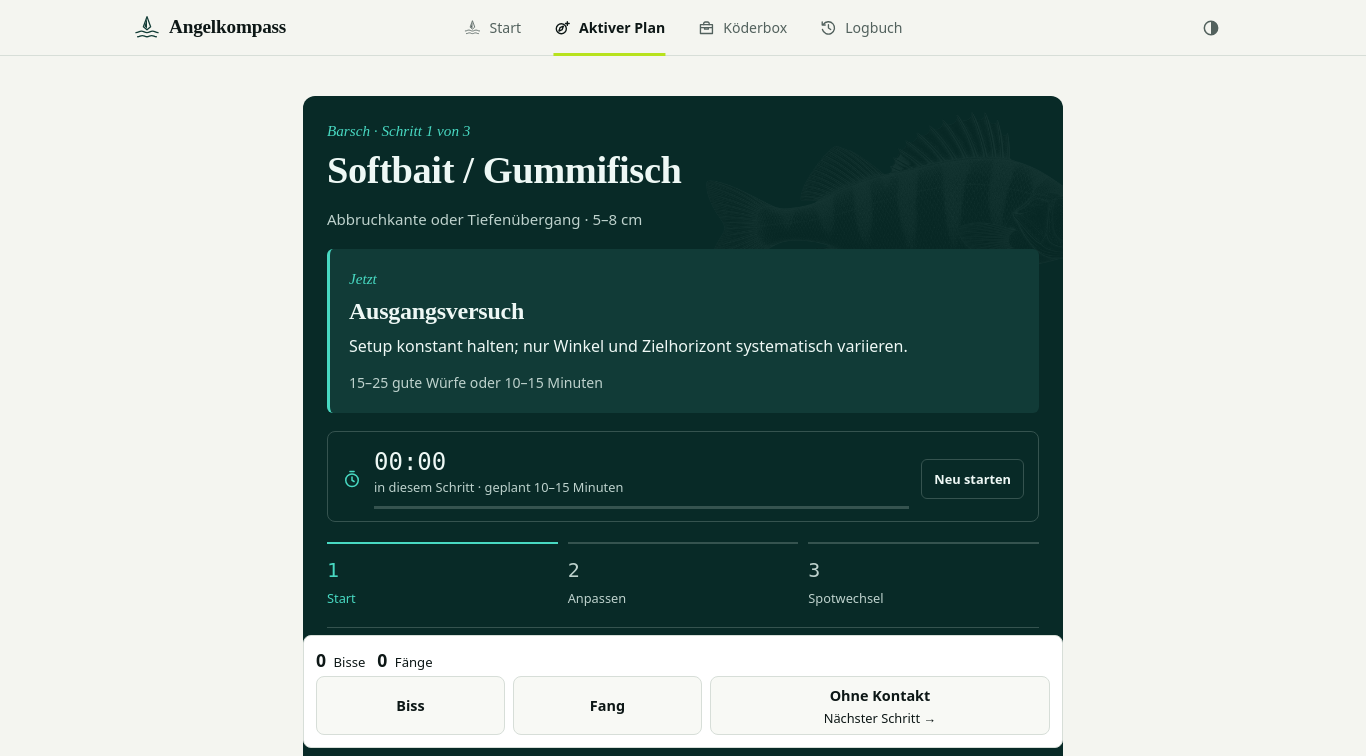
Scenario: Aktueller Arbeitsauftrag und gespeicherter Startplan › zeigt Montage, Größe, Gewicht und Führung aus dem aktuellen Wechselschritt
Click the button with aria-label "Ohne Kontakt → nächster Schritt": coordinates (880, 705) [710,676,1050,735]
(page scrolled)
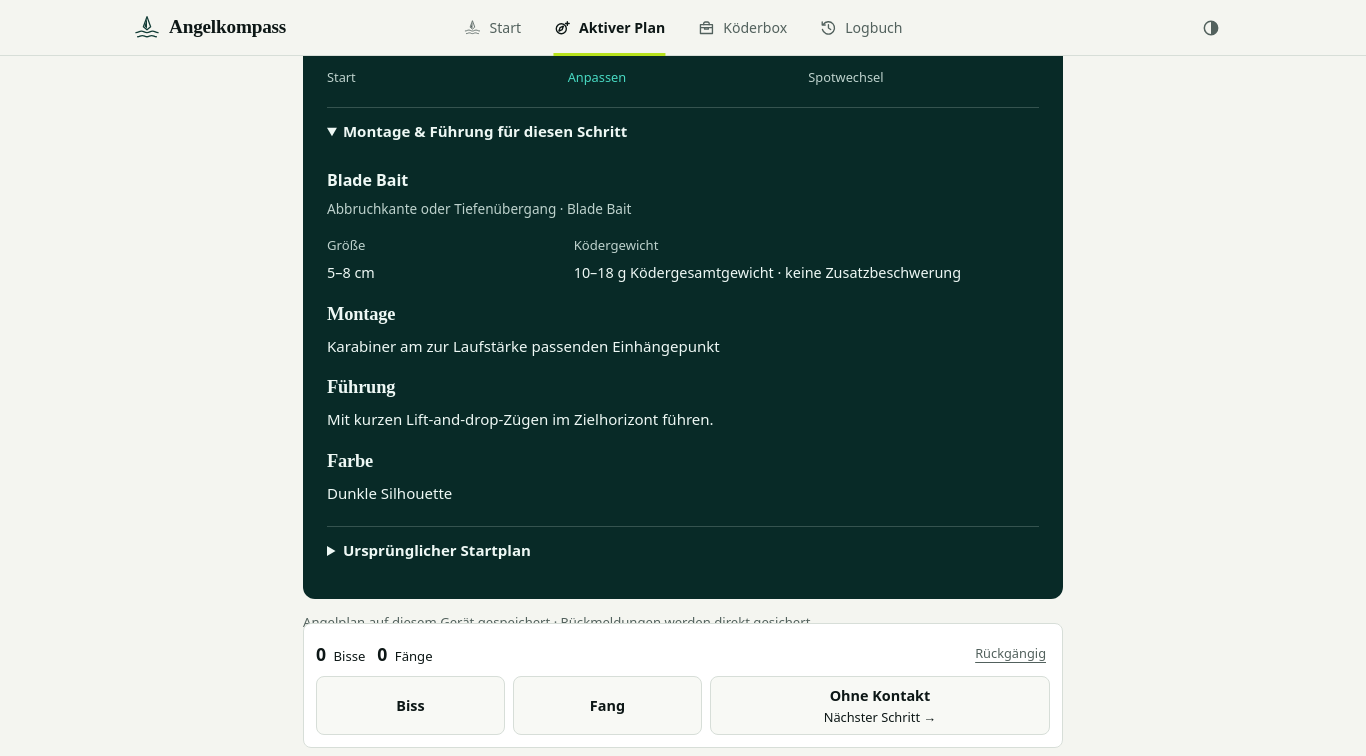
Check: the text "Blade Bait" is shown, box [327,169,408,191]
Check: the text "Karabiner am zur Laufstärke passenden Einhängepunkt" is shown, box [327,336,720,356]
Check: the text "Mit kurzen Lift-and-drop-Zügen im Zielhorizont führen." is shown, box [327,409,714,429]
